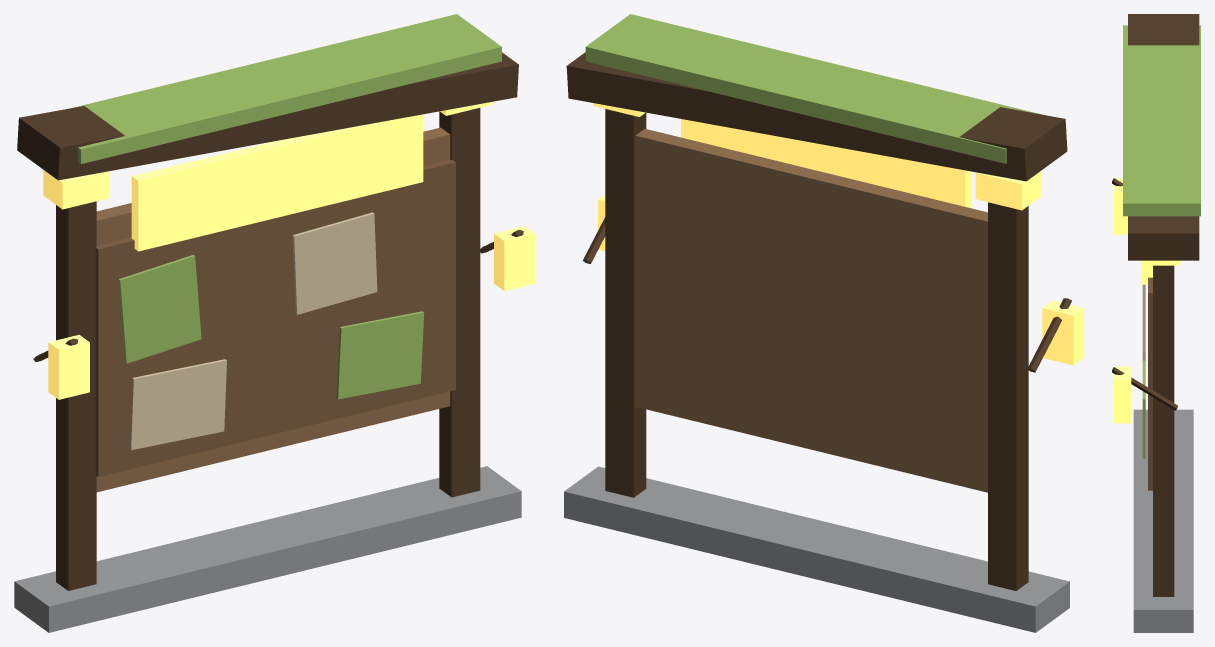
The model's file is jobs_board_green.lod1.glb.
The picture shows the model from 3 angles, left to right: view 1: azimuth 30°, elevation 25°; view 2: azimuth 150°, elevation 25°; view 3: azimuth 270°, elevation 25°; orthographic projection. The views are drawn at different scales.
Bounding box in the file's own units: 6.62 × 6.45 × 1.23.
